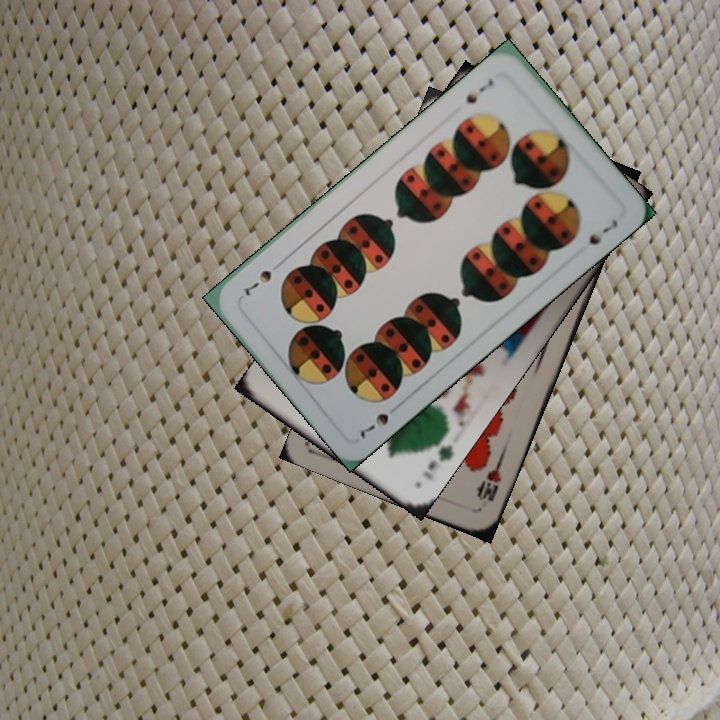GK: (419, 432, 457, 483)
H10: (473, 454, 505, 504)
S7: (356, 399, 404, 441), (462, 74, 496, 106)
